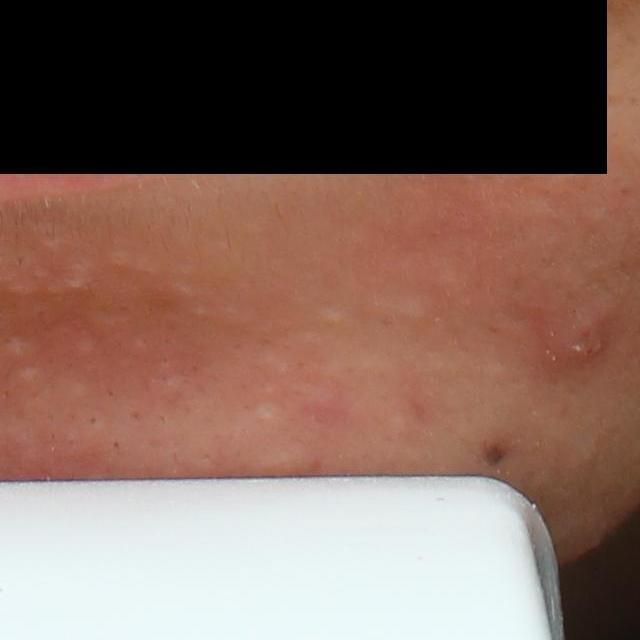comedo: (84, 410, 106, 430), (111, 438, 122, 452), (105, 387, 115, 400)
hypertrophic_scar: (105, 237, 193, 275), (245, 395, 290, 427), (49, 275, 92, 295), (68, 332, 98, 356), (67, 375, 98, 396), (169, 281, 207, 298), (155, 372, 195, 387), (317, 309, 349, 327), (36, 235, 64, 255), (6, 281, 43, 296), (4, 338, 33, 355), (15, 361, 40, 380)
nevus: (477, 435, 512, 470)
papule: (545, 319, 612, 379)
